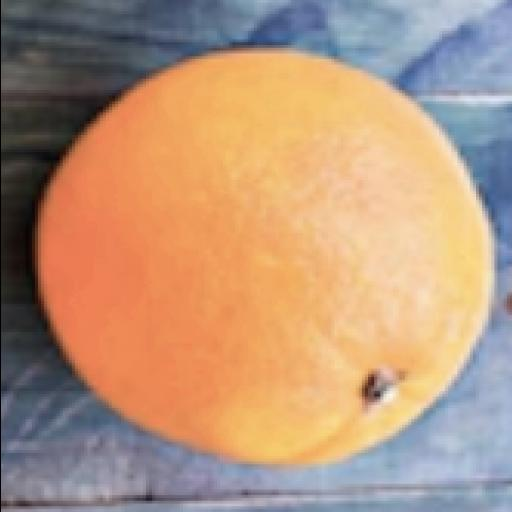orange: (38, 51, 493, 464)
